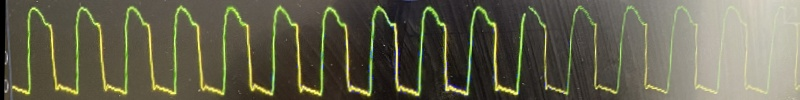normal_pressure: (0, 0, 784, 100)
